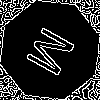M: (25, 25, 85, 83)
